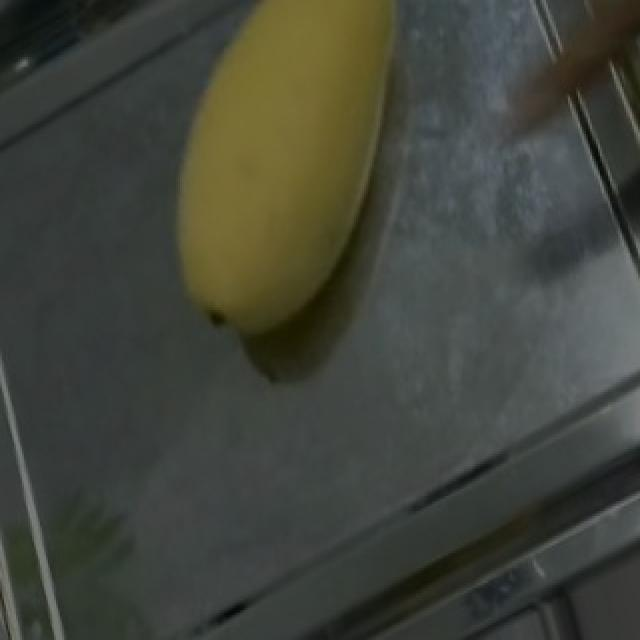fruit: (106, 0, 448, 375)
